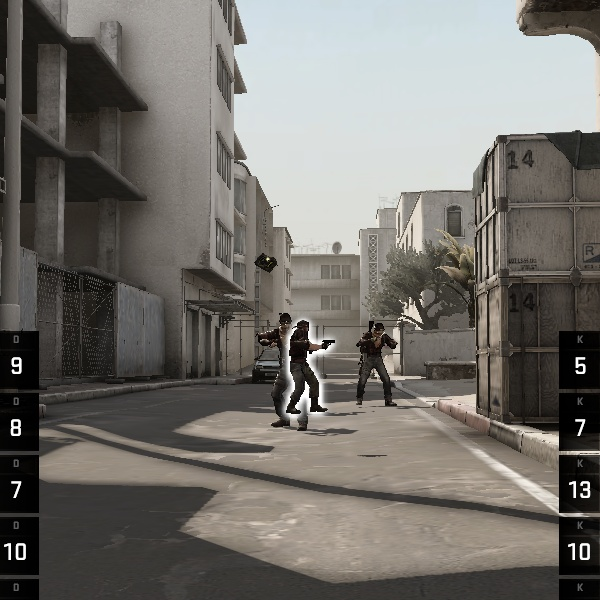t_body: (275, 313, 335, 423), (347, 315, 401, 410)
